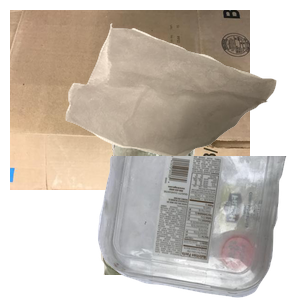cardboard: (10, 10, 250, 190)
glass: (98, 120, 286, 300)
plastic: (95, 156, 300, 300)
trash: (63, 21, 300, 172)
